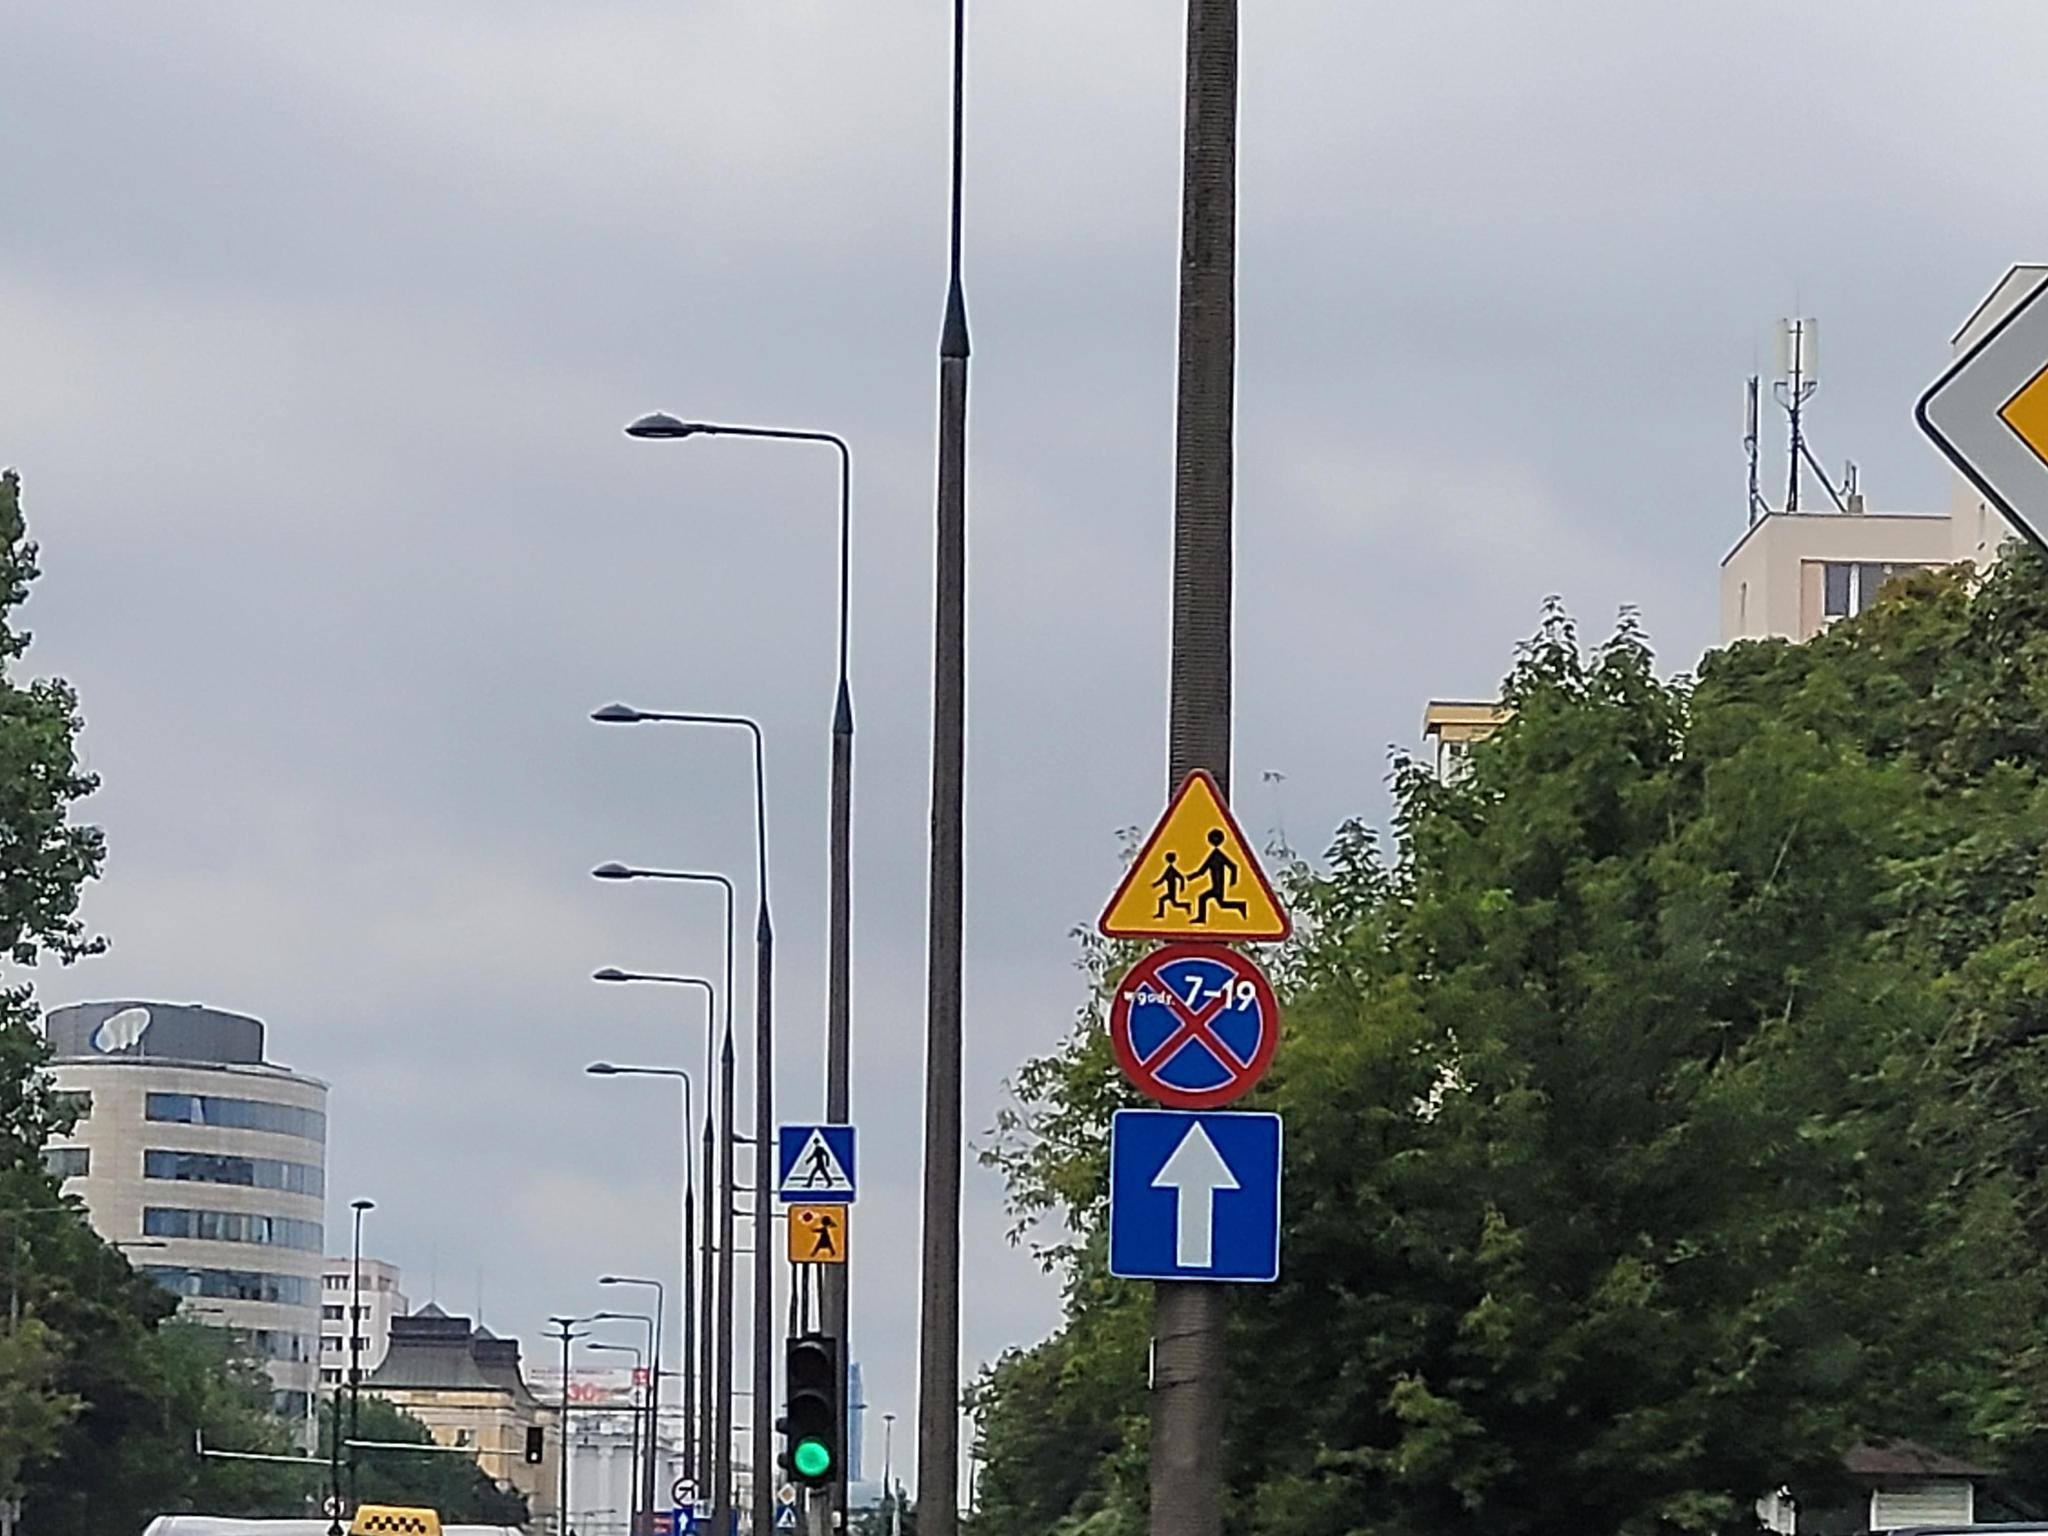information: (1913, 269, 2048, 565), (1114, 1110, 1279, 1278), (780, 1126, 856, 1202), (777, 1483, 797, 1505), (779, 1505, 797, 1528)
other: (789, 1205, 845, 1262)
prohibitory: (1109, 941, 1279, 1110), (672, 1476, 700, 1507)
warning: (1098, 765, 1293, 942)
